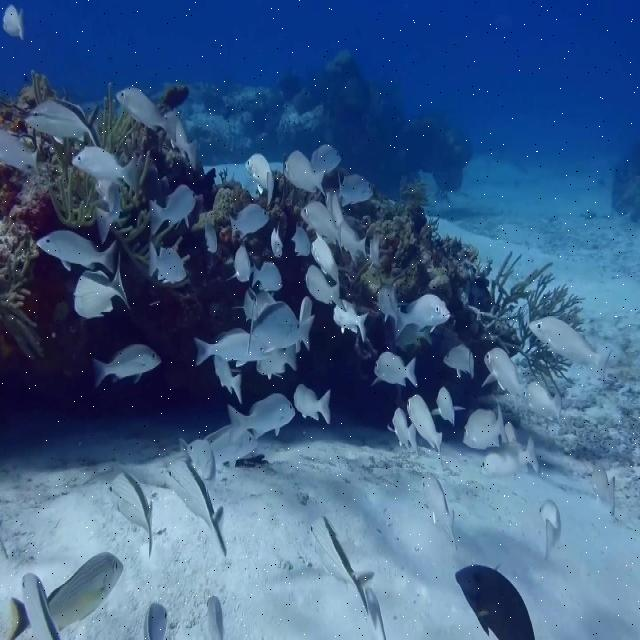fish: (6, 552, 124, 639), (311, 517, 376, 611), (456, 565, 535, 638), (529, 316, 615, 380), (165, 460, 223, 551), (108, 473, 155, 556), (23, 99, 101, 147), (248, 301, 314, 356), (87, 345, 162, 393), (178, 424, 256, 470), (74, 252, 129, 317), (228, 394, 296, 444), (114, 88, 176, 141), (36, 231, 114, 273), (327, 188, 368, 267), (72, 146, 136, 192), (388, 293, 450, 339), (21, 573, 64, 639), (194, 328, 256, 367), (422, 477, 455, 550), (151, 185, 199, 235), (480, 437, 539, 474), (408, 397, 442, 457), (482, 349, 526, 394), (462, 404, 505, 450), (284, 151, 325, 198), (164, 113, 198, 169), (306, 265, 346, 309), (151, 237, 189, 282), (301, 201, 340, 244), (1, 130, 39, 173), (95, 181, 121, 243), (244, 152, 274, 205), (256, 342, 300, 378), (332, 300, 367, 343), (371, 351, 415, 385), (230, 204, 269, 240), (294, 383, 330, 422), (521, 382, 560, 418), (311, 237, 340, 283), (214, 355, 242, 401), (432, 386, 465, 425), (592, 462, 615, 517), (540, 500, 561, 558), (364, 586, 385, 638), (338, 174, 373, 205), (310, 144, 341, 176), (444, 347, 475, 379), (242, 290, 274, 319), (390, 408, 415, 445), (144, 602, 168, 639), (376, 287, 400, 321), (253, 262, 282, 290), (228, 244, 250, 280), (206, 598, 225, 639), (199, 212, 217, 253), (3, 6, 23, 40), (292, 222, 309, 257), (271, 224, 283, 259), (300, 297, 312, 319), (369, 236, 379, 260)
